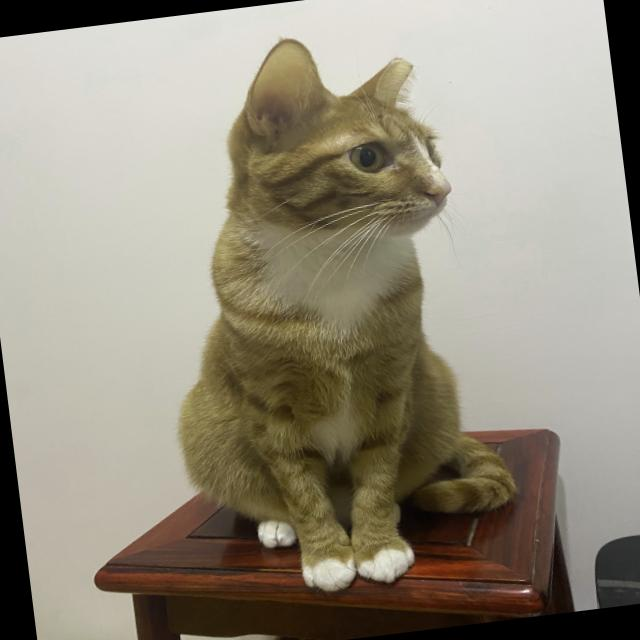cat3: (128, 12, 532, 608)
